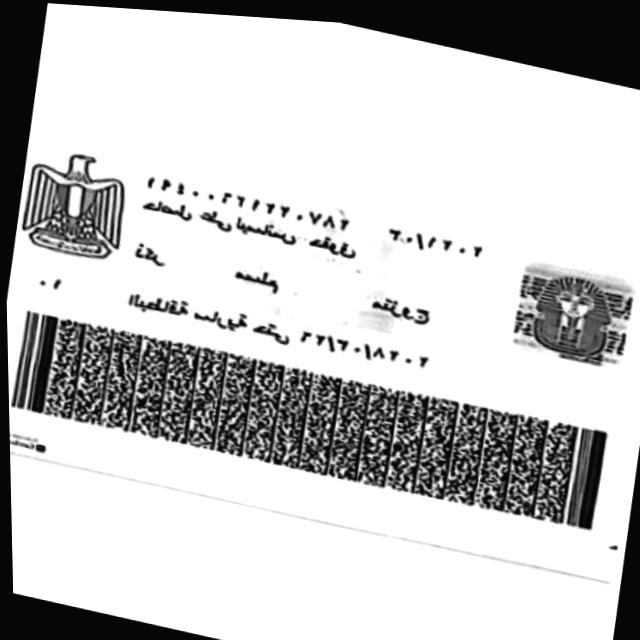back: (7, 83, 640, 598)
